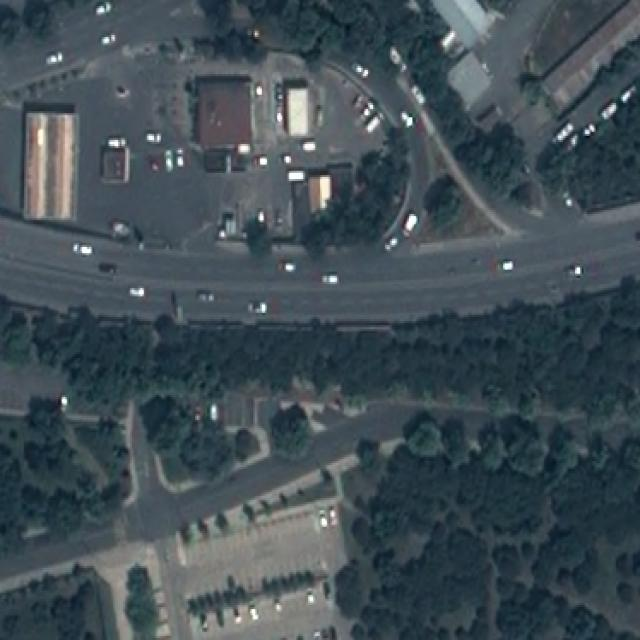Batiment: (25, 113, 76, 219), (196, 78, 250, 147), (101, 138, 127, 183), (287, 87, 309, 136), (309, 174, 331, 213)
